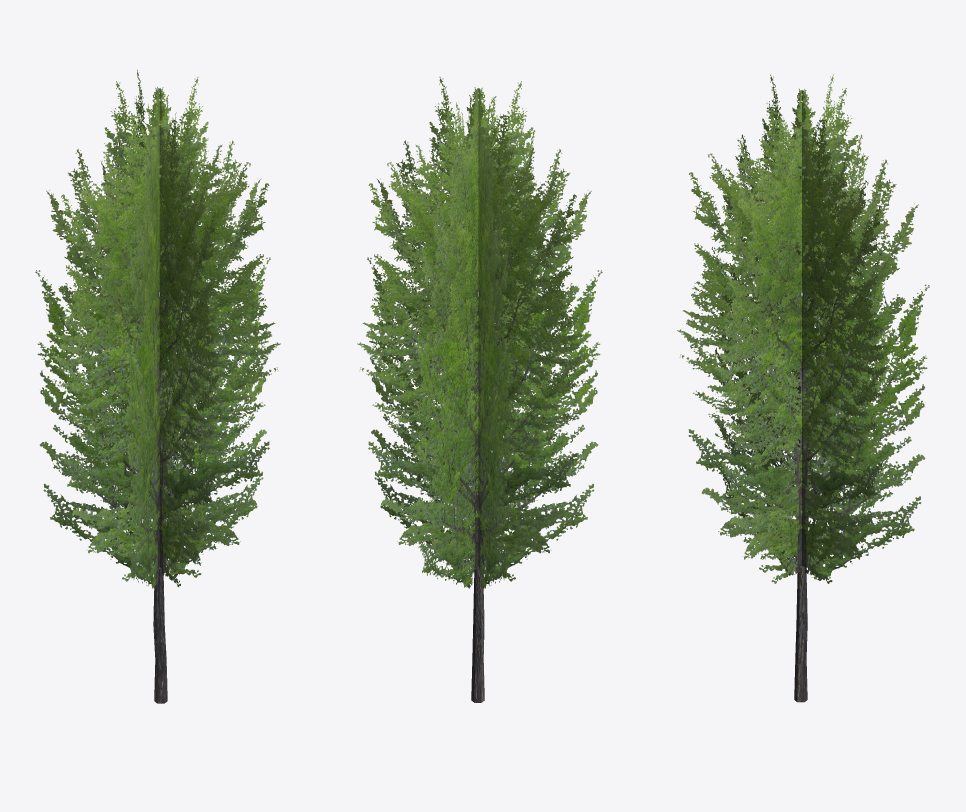
The model's file is TREE_01.fbx.
3 views of the same model, side by side, from view 1: azimuth 30°, elevation 25°; view 2: azimuth 150°, elevation 25°; view 3: azimuth 270°, elevation 25° (orthographic).
Parts seen in each view (by area): view 1: TREE_01; view 2: TREE_01; view 3: TREE_01.
Boxes of the visible parts, x1=… form: TREE_01: x1=35, y1=70, x2=280, y2=703; TREE_01: x1=357, y1=77, x2=602, y2=702; TREE_01: x1=677, y1=74, x2=929, y2=702.
Bounding box in the file's own units: 311 × 753 × 311.
